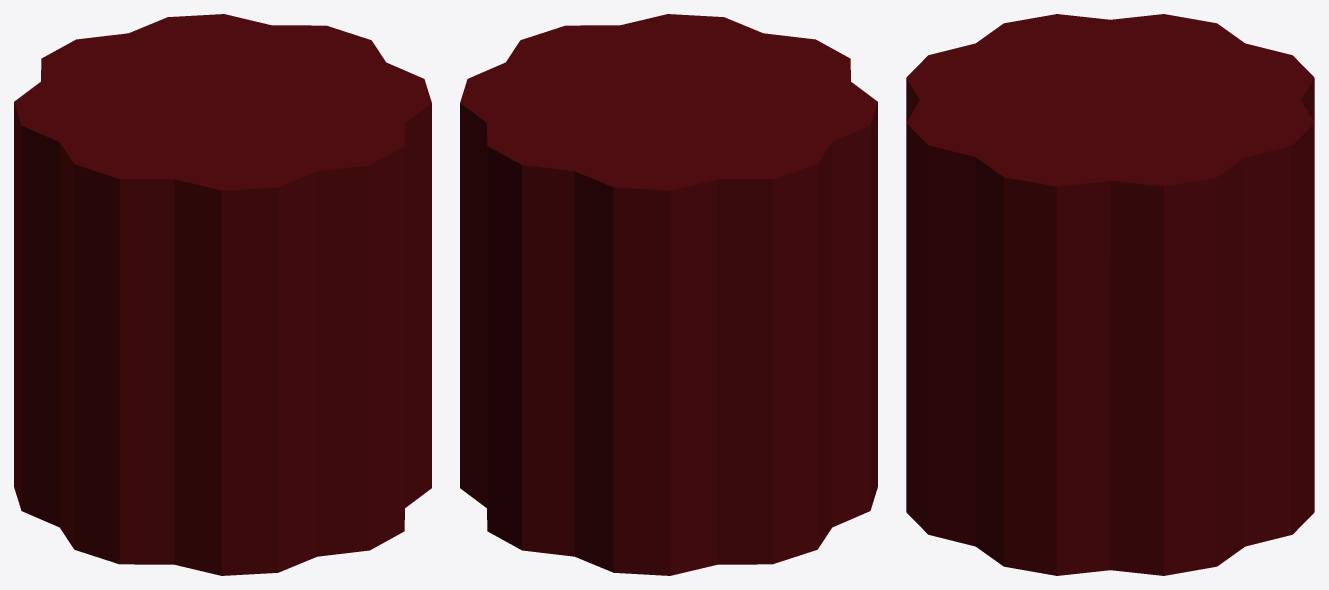
The picture shows the model from 3 angles, left to right: view 1: azimuth 30°, elevation 25°; view 2: azimuth 150°, elevation 25°; view 3: azimuth 270°, elevation 25°; orthographic projection.
Visible parts, largest first — view 1: Pillar; view 2: Pillar; view 3: Pillar.
Boxes of the visible parts, x1,y1,x2,y2 form: Pillar: [14, 14, 431, 575]; Pillar: [460, 14, 877, 575]; Pillar: [906, 14, 1314, 575].
Bounding box in the file's own units: 95.05 × 100 × 95.05.
